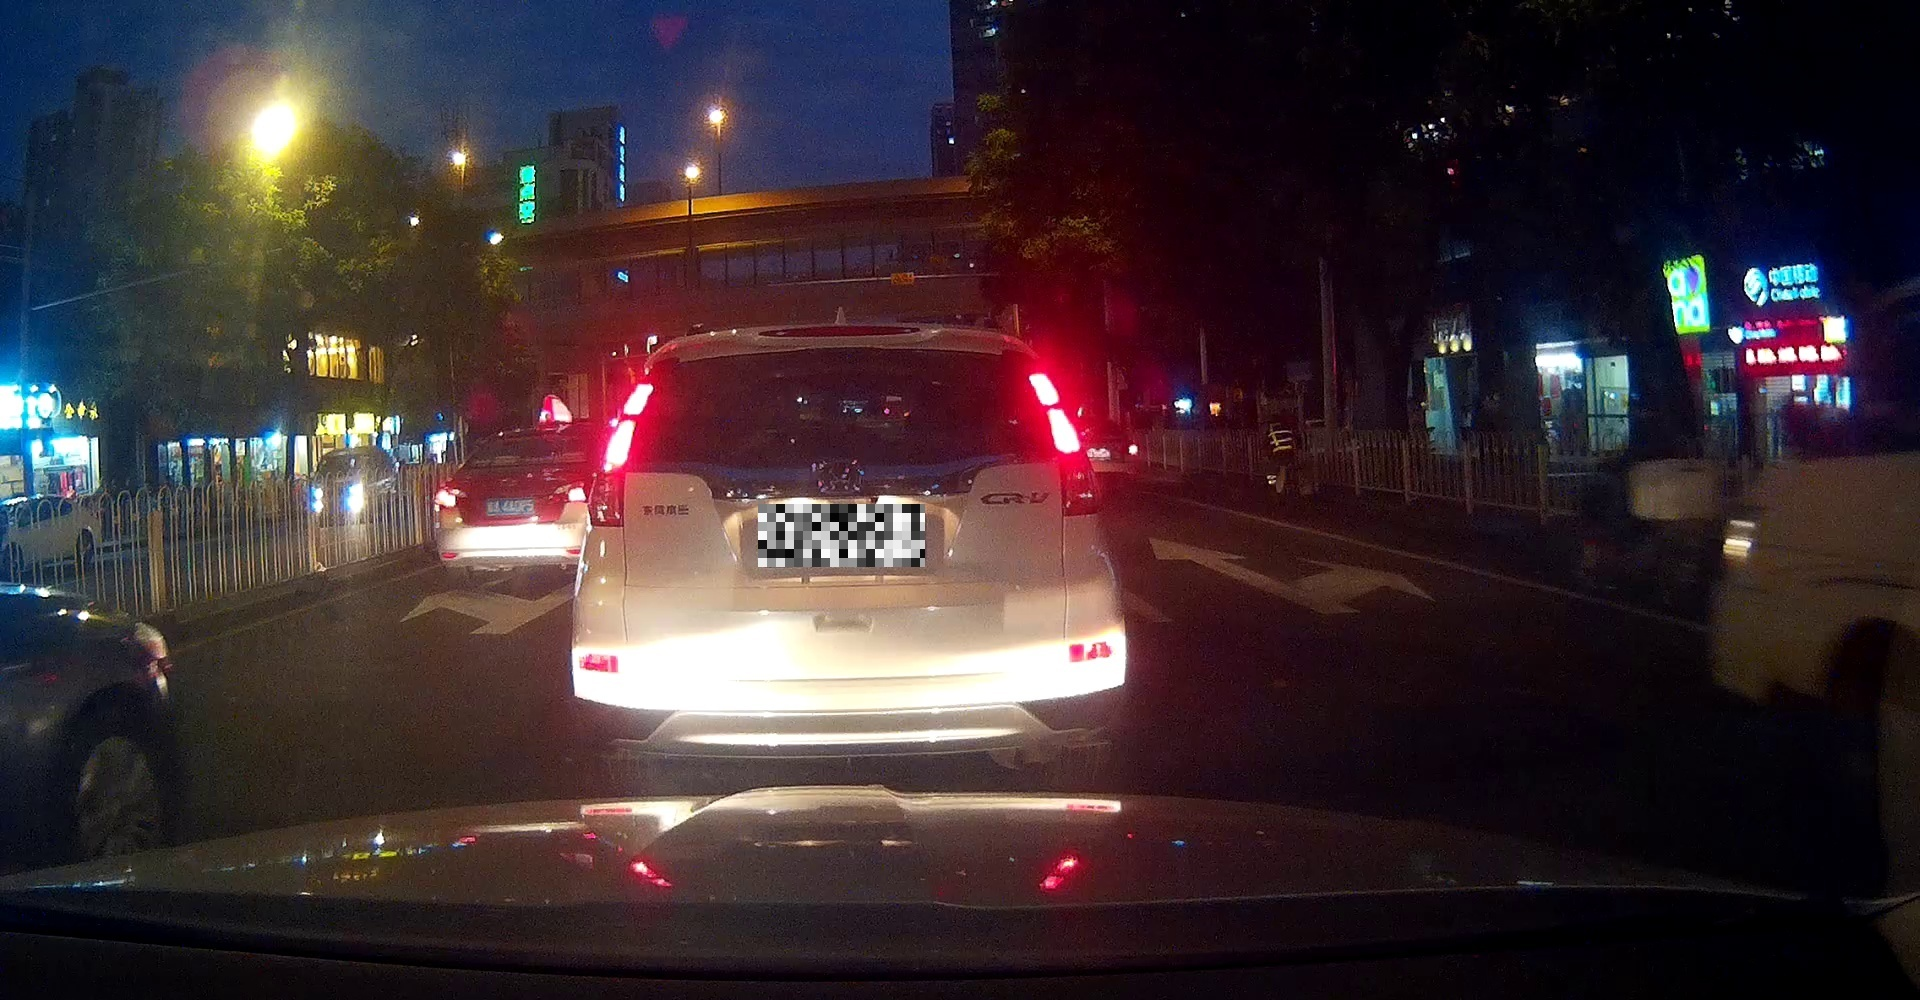L_light: (585, 379, 657, 529)
R_light: (1025, 374, 1101, 516)
T_light: (759, 324, 919, 339)
night-no: (570, 319, 1133, 793)
plate_1: (758, 504, 924, 567)
